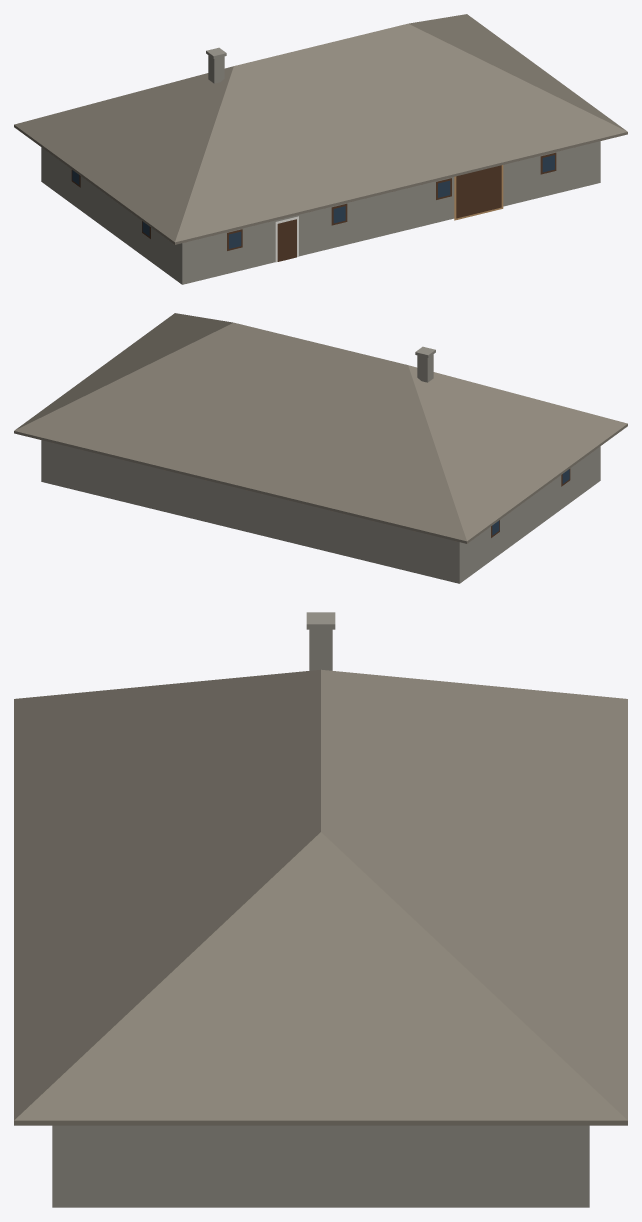
Rendered from ferme_alpage.glb.
3 renders of one model, top to bottom at view 1: azimuth 30°, elevation 25°; view 2: azimuth 150°, elevation 25°; view 3: azimuth 270°, elevation 25°, orthographic. The views are drawn at different scales.
Visible parts, largest first — view 1: ferme_alpage; view 2: ferme_alpage; view 3: ferme_alpage.
Part boxes in pixels (x1,y1,x2,y2): ferme_alpage: [14, 14, 627, 284]; ferme_alpage: [14, 313, 627, 583]; ferme_alpage: [14, 612, 627, 1207].
Size of the model in its own units: 26 by 8.65 by 16.
1 material, 1 textured.
